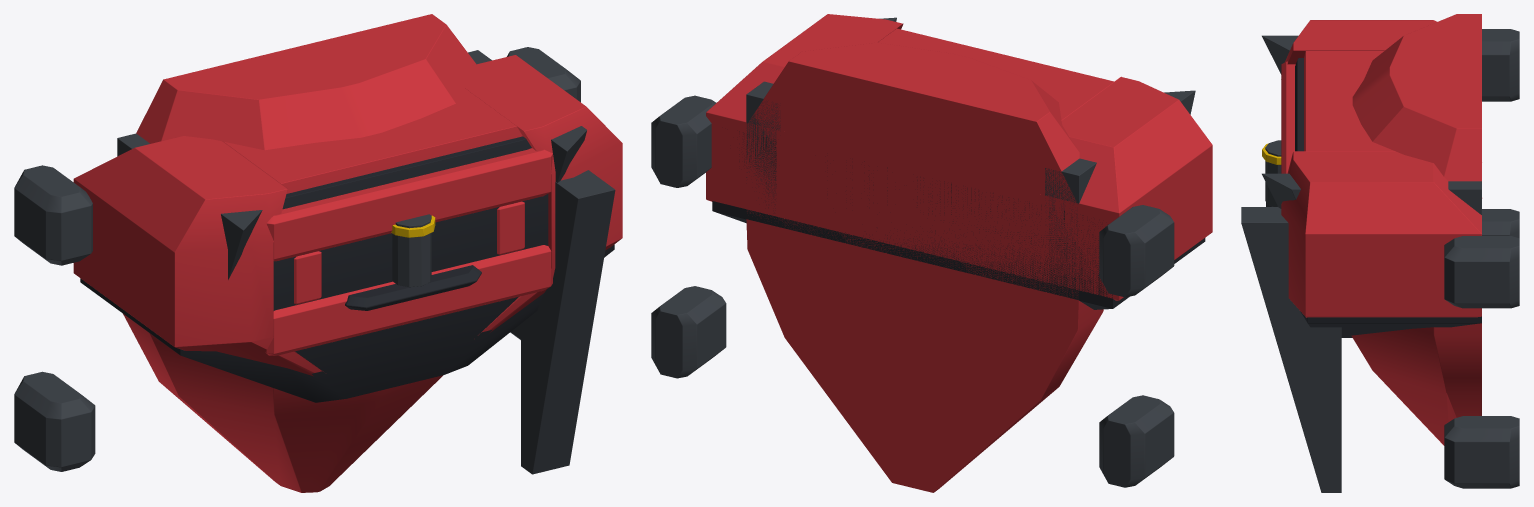
Rendered from LowerArmFront_Set08_Goliath.fbx.
3 views of the same model, side by side, from view 1: azimuth 30°, elevation 25°; view 2: azimuth 150°, elevation 25°; view 3: azimuth 270°, elevation 25° (orthographic). The views are drawn at different scales.
Visible parts, largest first — view 1: LowerArmFront_Set08_Goliath; view 2: LowerArmFront_Set08_Goliath; view 3: LowerArmFront_Set08_Goliath.
Boxes of the visible parts, x1=… form: LowerArmFront_Set08_Goliath: x1=14, y1=14, x2=622, y2=492; LowerArmFront_Set08_Goliath: x1=651, y1=14, x2=1212, y2=492; LowerArmFront_Set08_Goliath: x1=1241, y1=14, x2=1519, y2=492.
Size of the model in its own units: 0.43 by 0.33 by 0.2219.
